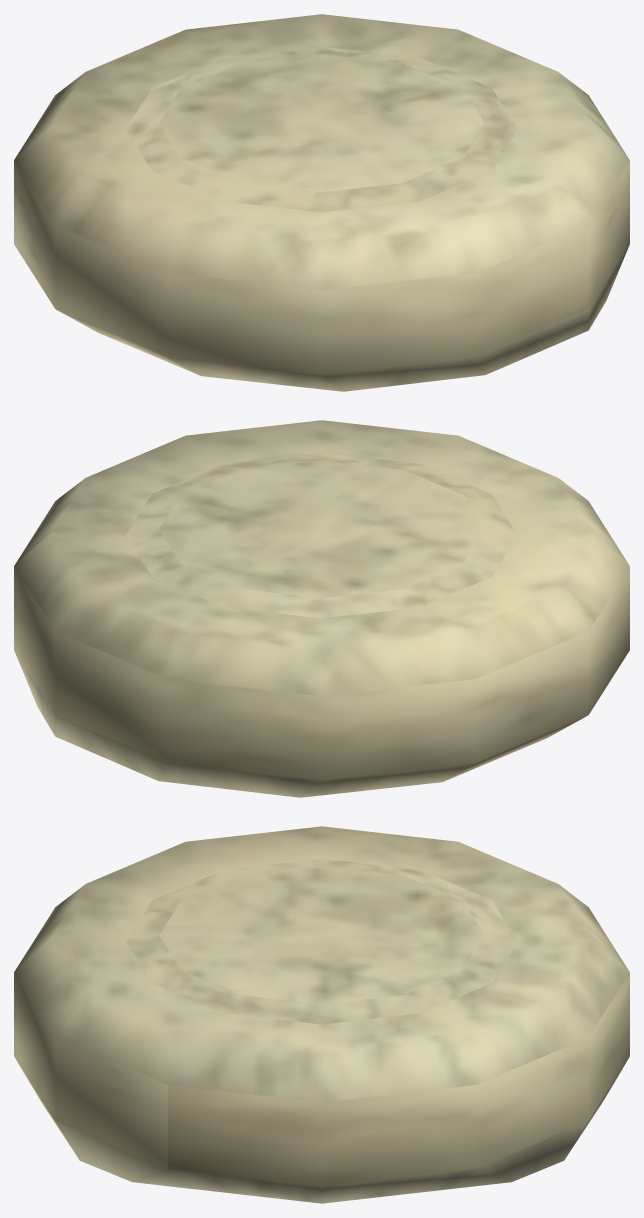
The model's file is CheeseWheel.fbx.
3 views of the same model, one above another, from view 1: azimuth 30°, elevation 25°; view 2: azimuth 150°, elevation 25°; view 3: azimuth 270°, elevation 25° (orthographic).
Visible parts, largest first — view 1: CheeseWheel; view 2: CheeseWheel; view 3: CheeseWheel.
Part boxes in pixels (x1,y1,x2,y2): CheeseWheel: [14, 14, 629, 391]; CheeseWheel: [14, 420, 629, 797]; CheeseWheel: [14, 826, 629, 1203].
Size of the model in its own units: 53.19 by 14.69 by 53.19.
